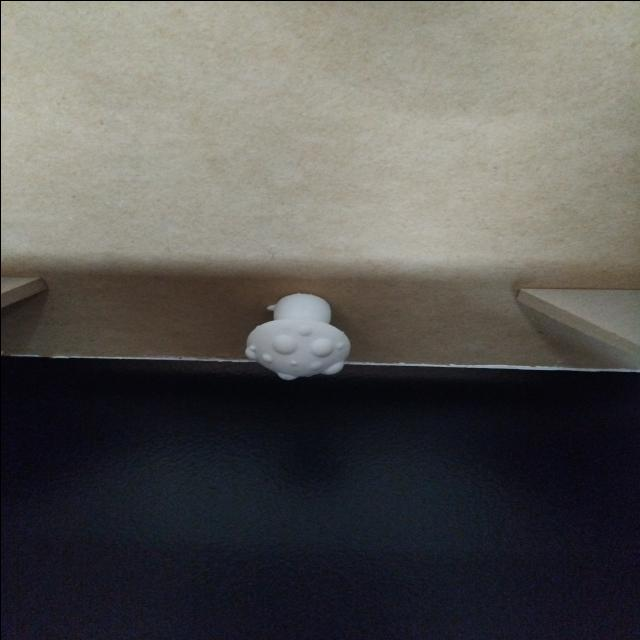Hongo: (235, 287, 366, 386)
